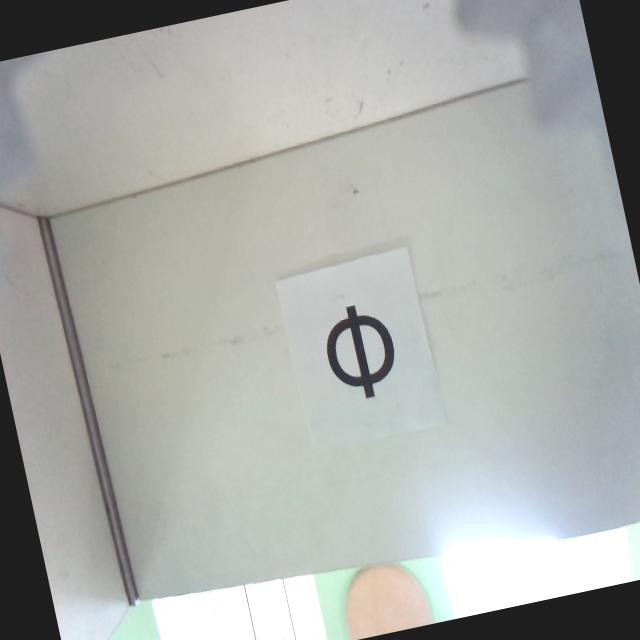F: (317, 298, 402, 404)
